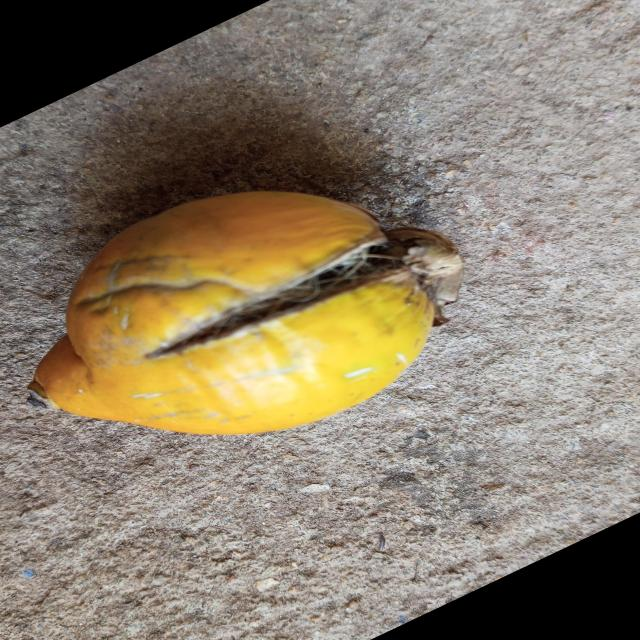damaged: (26, 191, 463, 439)
